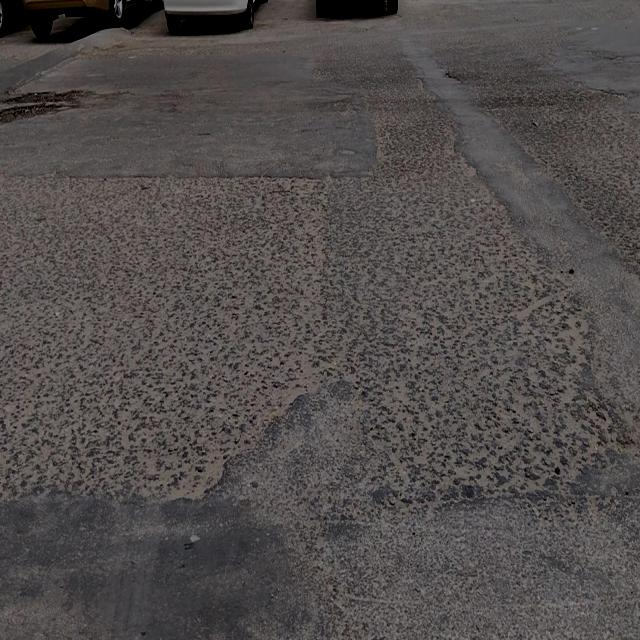Potholes: (0, 85, 82, 121)
